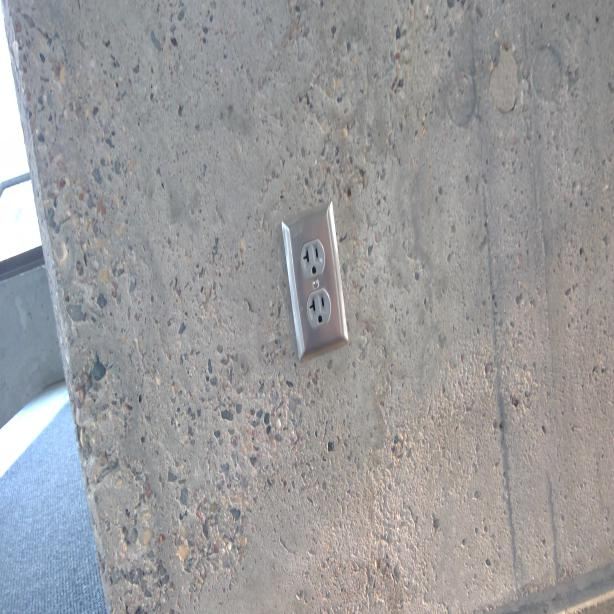typeb: (305, 290, 331, 331), (300, 240, 323, 276)
